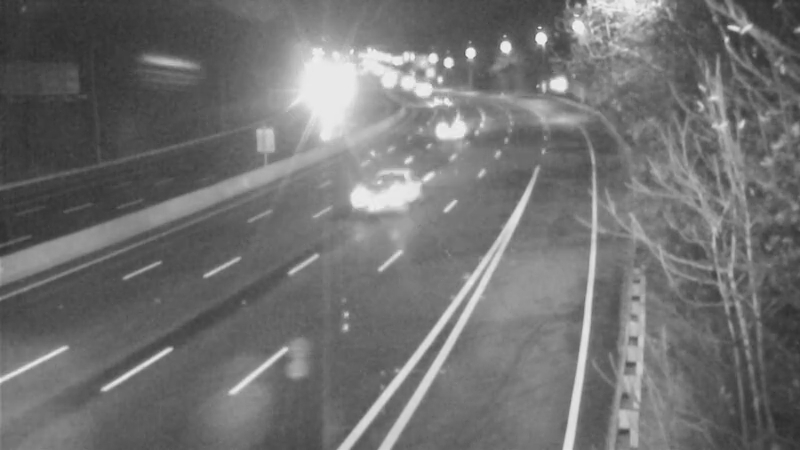vehicle: (350, 155, 430, 235), (380, 59, 430, 109), (394, 64, 444, 114), (416, 76, 466, 126), (427, 104, 477, 154), (299, 70, 349, 120)
